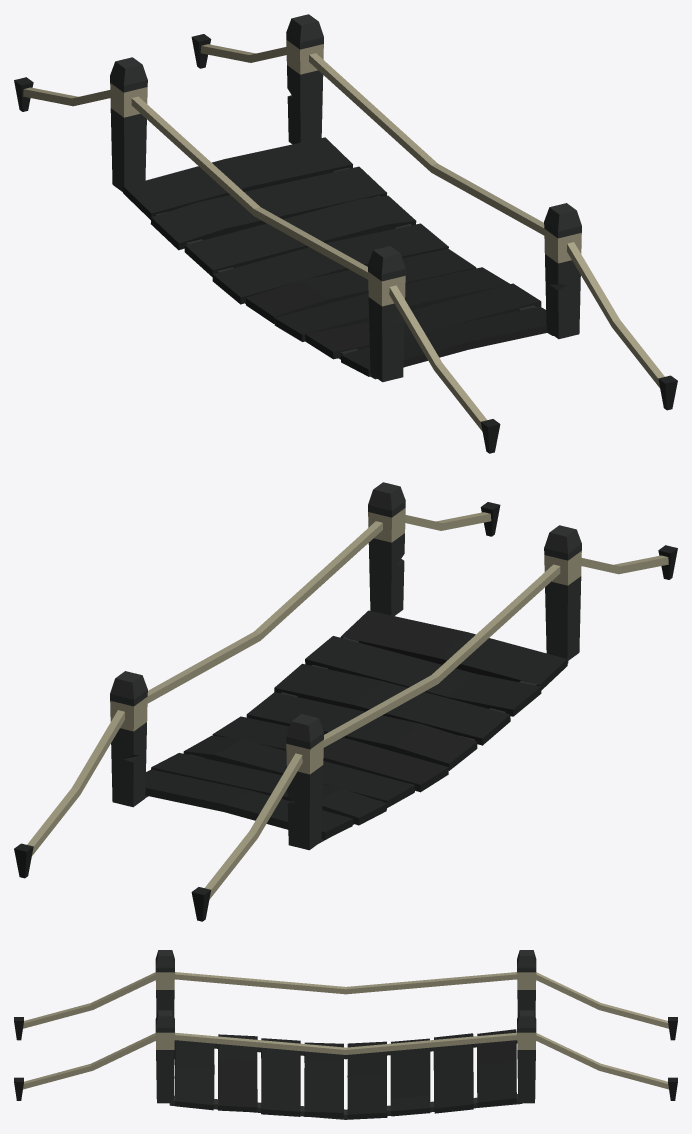
The model's file is Bridge_4_Black.fbx.
The picture shows the model from 3 angles, top to bottom: view 1: azimuth 30°, elevation 25°; view 2: azimuth 150°, elevation 25°; view 3: azimuth 270°, elevation 25°; orthographic projection. The views are drawn at different scales.
Visible parts, largest first — view 1: Bridge_4_Black_Part_1, Bridge_4_Black_Part_3, Bridge_4_Black_Part_2; view 2: Bridge_4_Black_Part_1, Bridge_4_Black_Part_3, Bridge_4_Black_Part_2; view 3: Bridge_4_Black_Part_1, Bridge_4_Black_Part_3, Bridge_4_Black_Part_2.
Part boxes in pixels (x1,y1,x2,y2): Bridge_4_Black_Part_1: (14, 34, 677, 453); Bridge_4_Black_Part_3: (23, 40, 664, 431); Bridge_4_Black_Part_2: (110, 14, 581, 382); Bridge_4_Black_Part_1: (14, 502, 677, 921); Bridge_4_Black_Part_3: (27, 508, 668, 899); Bridge_4_Black_Part_2: (110, 482, 581, 850); Bridge_4_Black_Part_1: (14, 997, 677, 1119); Bridge_4_Black_Part_3: (23, 972, 668, 1089); Bridge_4_Black_Part_2: (155, 950, 536, 1119).
Bounding box in the file's own units: 300 × 204 × 1183.
